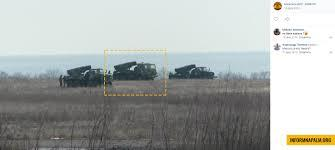MIL_SAM_TEL: (64, 65, 112, 88), (112, 59, 158, 82), (169, 62, 215, 80)
